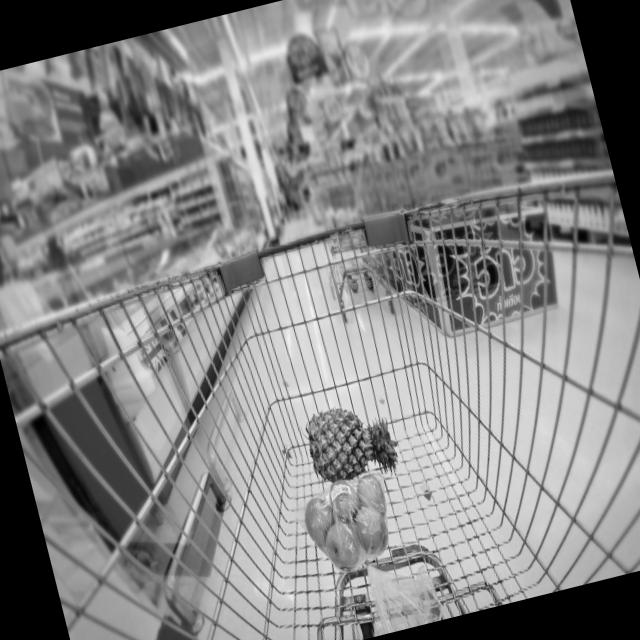dua: (294, 386, 402, 492)
tao: (292, 465, 407, 577)
